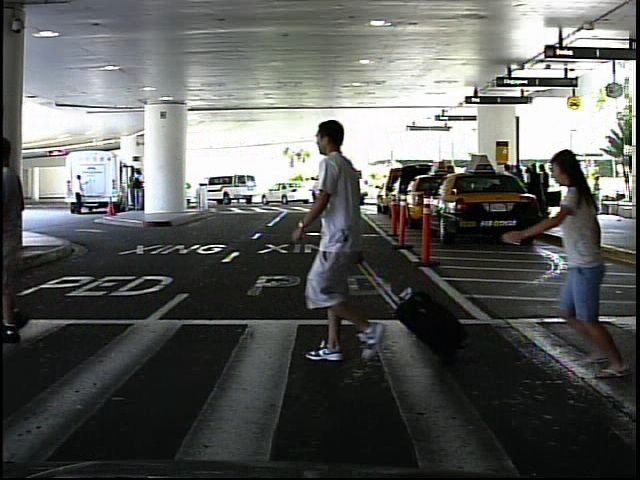person: (298, 109, 397, 375), (69, 172, 87, 216), (596, 172, 599, 218)
